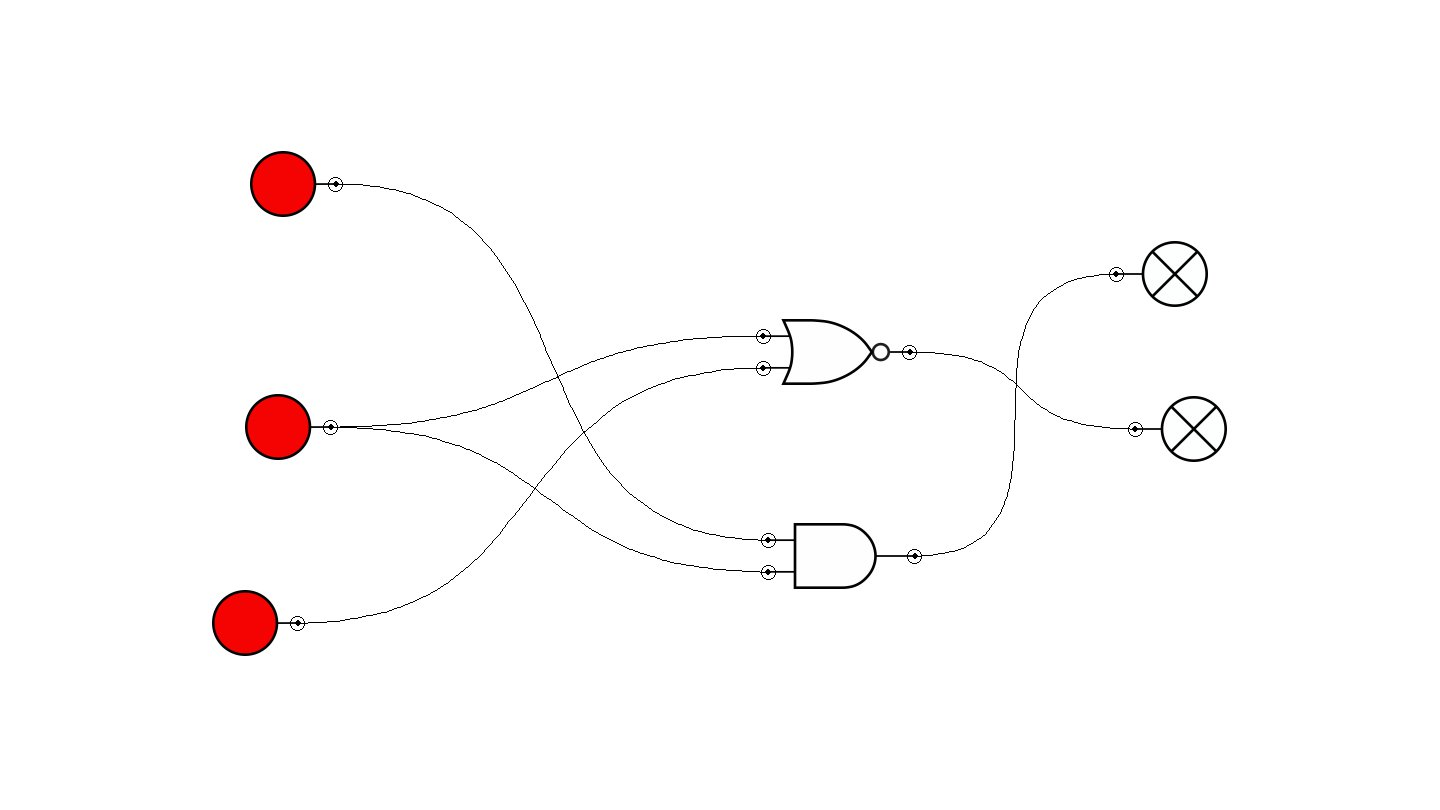and: (761, 523, 922, 589)
bulb: (1128, 396, 1227, 462), (1109, 241, 1208, 307)
nor: (756, 319, 917, 385)
switch_False: (212, 590, 305, 656), (250, 151, 343, 217), (245, 394, 338, 460)
